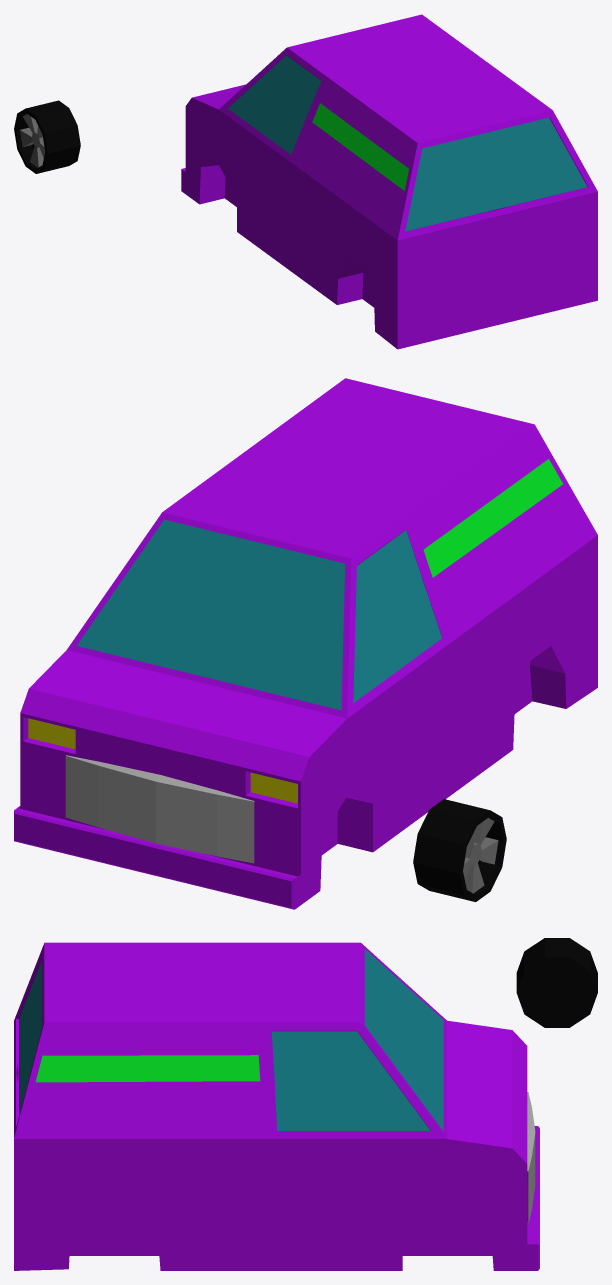
File: Car_CD2.fbx
3 views of the same model, one above another, from view 1: azimuth 30°, elevation 25°; view 2: azimuth 150°, elevation 25°; view 3: azimuth 270°, elevation 25° (orthographic). The views are drawn at different scales.
Visible parts, largest first — view 1: epta, Cylinder; view 2: epta, Cylinder; view 3: epta, Cylinder.
Part boxes in pixels (x1=…): epta: x1=181, y1=14, x2=597, y2=349; Cylinder: x1=14, y1=100, x2=80, y2=173; epta: x1=14, y1=378, x2=597, y2=909; Cylinder: x1=413, y1=799, x2=506, y2=901; epta: x1=14, y1=942, x2=539, y2=1270; Cylinder: x1=516, y1=938, x2=597, y2=1027.
Bounding box in the file's own units: 658 × 347 × 802.
